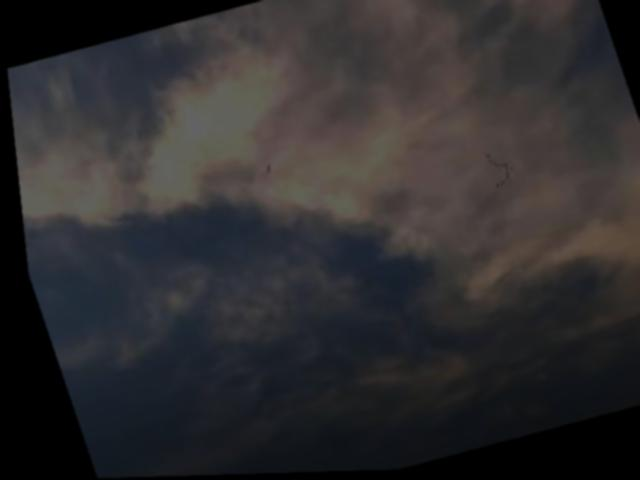iha: (260, 165, 268, 175)
